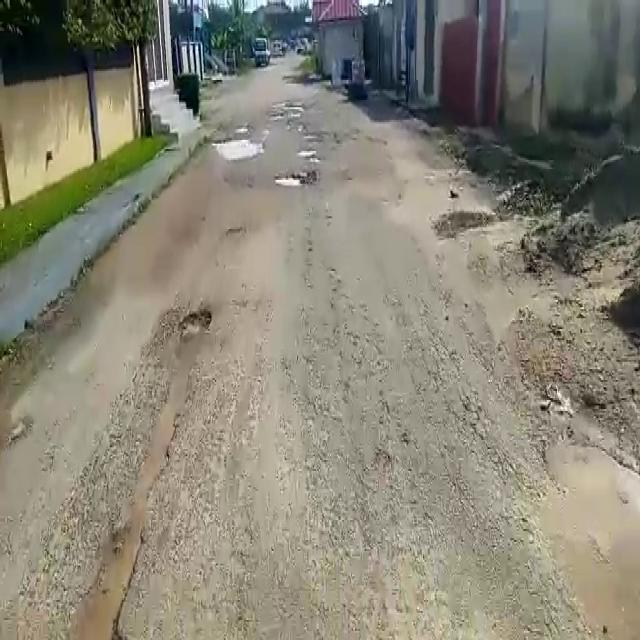Pothole: (214, 132, 263, 159), (178, 306, 212, 340), (272, 172, 310, 189)
